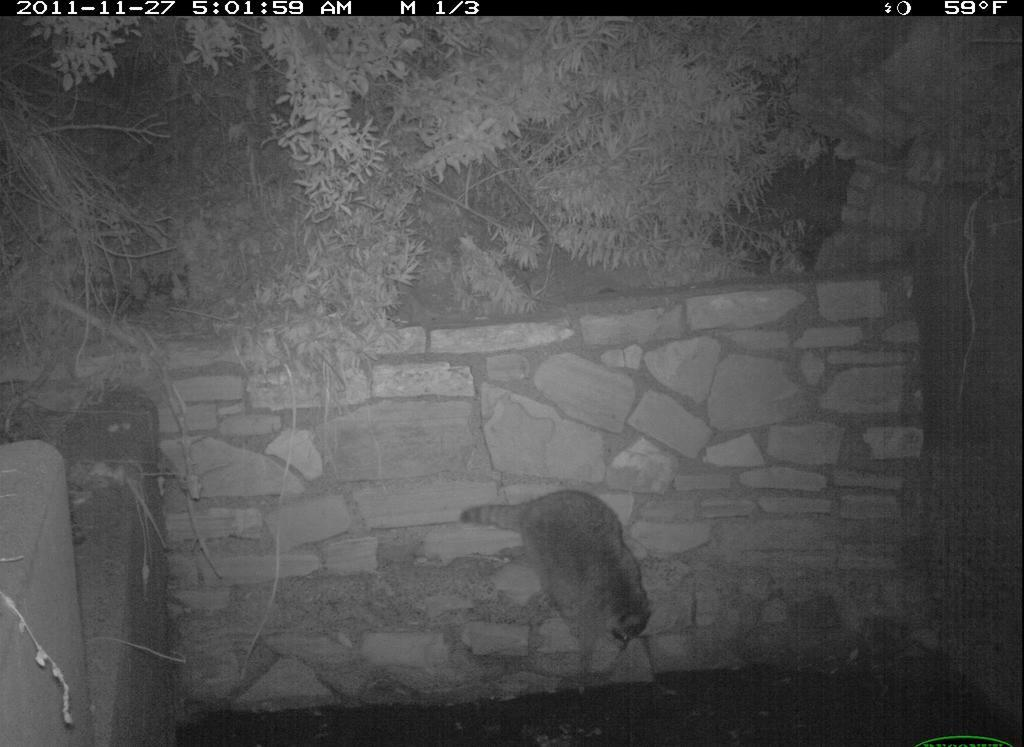raccoon: (457, 482, 660, 675)
